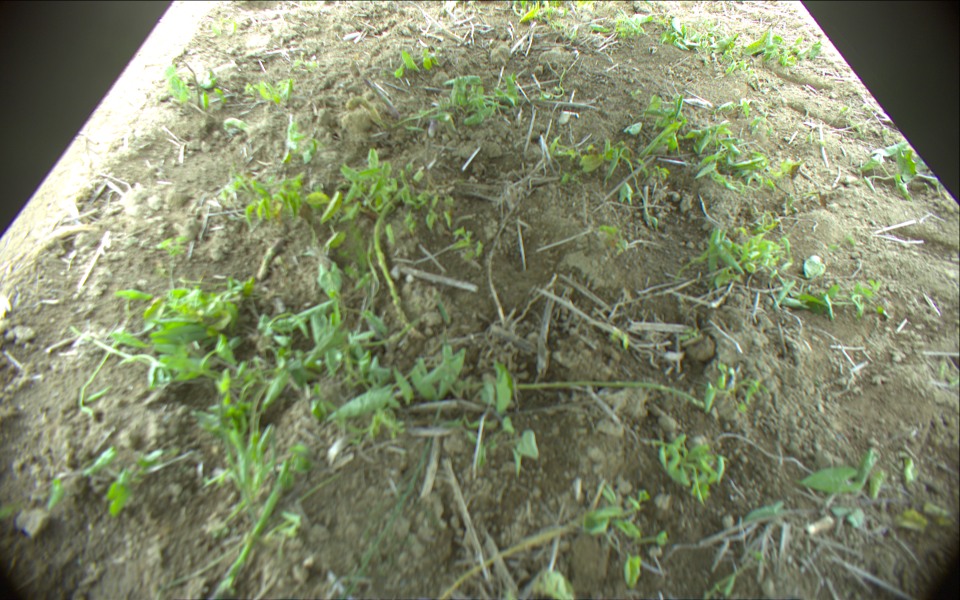aspa: (208, 466, 296, 600), (373, 166, 425, 346), (442, 379, 701, 411)
